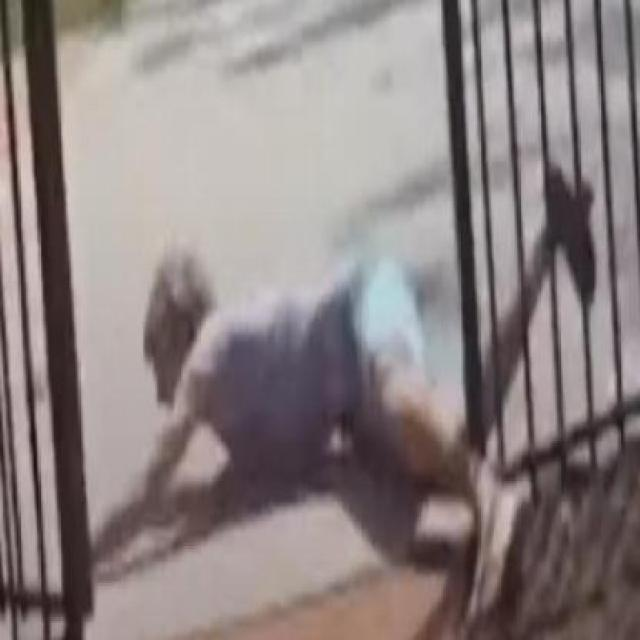fall: (85, 175, 597, 619)
